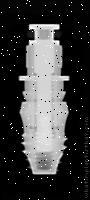Cowellmedi: (18, 24, 69, 173)
